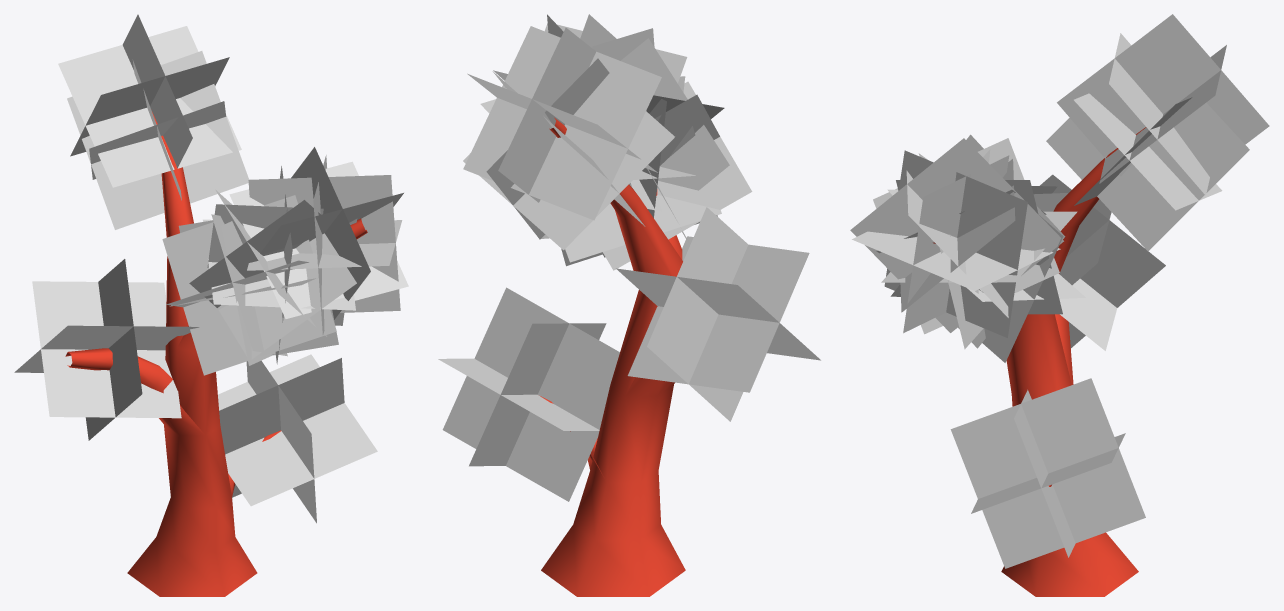
File: tree.fbx
3 views of the same model, side by side, from view 1: azimuth 30°, elevation 25°; view 2: azimuth 150°, elevation 25°; view 3: azimuth 270°, elevation 25° (orthographic). The views are drawn at different scales.
Parts seen in each view (by area): view 1: Tree, Tree|Leaf|Dupli|, Tree|Leaf|Dupli|9, Tree|Leaf|Dupli|8, Tree|Leaf|Dupli|7, Tree|Leaf|Dupli|2, Tree|Leaf|Dupli|1, Tree|Leaf|Dupli|4, Tree|Leaf|Dupli|3, Tree|Leaf|Dupli|6, Tree|Leaf|Dupli|5; view 2: Tree, Tree|Leaf|Dupli|9, Tree|Leaf|Dupli|, Tree|Leaf|Dupli|8, Tree|Leaf|Dupli|7, Tree|Leaf|Dupli|2, Tree|Leaf|Dupli|3, Tree|Leaf|Dupli|5, Tree|Leaf|Dupli|1, Tree|Leaf|Dupli|6, Tree|Leaf|Dupli|4; view 3: Tree|Leaf|Dupli|9, Tree|Leaf|Dupli|8, Tree|Leaf|Dupli|4, Tree|Leaf|Dupli|7, Tree, Tree|Leaf|Dupli|1, Tree|Leaf|Dupli|, Tree|Leaf|Dupli|6, Tree|Leaf|Dupli|5, Tree|Leaf|Dupli|3, Tree|Leaf|Dupli|2.
Part boxes in pixels (bbox=[...]): Tree: bbox=[65, 112, 367, 596]; Tree|Leaf|Dupli|: bbox=[14, 259, 199, 440]; Tree|Leaf|Dupli|9: bbox=[218, 354, 377, 523]; Tree|Leaf|Dupli|8: bbox=[58, 14, 241, 187]; Tree|Leaf|Dupli|7: bbox=[67, 51, 249, 229]; Tree|Leaf|Dupli|2: bbox=[162, 195, 336, 375]; Tree|Leaf|Dupli|1: bbox=[229, 147, 408, 319]; Tree|Leaf|Dupli|4: bbox=[247, 155, 402, 334]; Tree|Leaf|Dupli|3: bbox=[189, 189, 356, 359]; Tree|Leaf|Dupli|6: bbox=[203, 166, 357, 364]; Tree|Leaf|Dupli|5: bbox=[169, 204, 338, 365]; Tree: bbox=[540, 117, 685, 596]; Tree|Leaf|Dupli|9: bbox=[438, 287, 619, 501]; Tree|Leaf|Dupli|: bbox=[616, 207, 820, 421]; Tree|Leaf|Dupli|8: bbox=[463, 26, 661, 220]; Tree|Leaf|Dupli|7: bbox=[463, 58, 674, 250]; Tree|Leaf|Dupli|2: bbox=[603, 81, 752, 270]; Tree|Leaf|Dupli|3: bbox=[621, 38, 729, 211]; Tree|Leaf|Dupli|5: bbox=[561, 126, 721, 266]; Tree|Leaf|Dupli|1: bbox=[493, 14, 687, 83]; Tree|Leaf|Dupli|6: bbox=[541, 76, 695, 238]; Tree|Leaf|Dupli|4: bbox=[480, 14, 654, 113]; Tree|Leaf|Dupli|9: bbox=[950, 378, 1145, 568]; Tree|Leaf|Dupli|8: bbox=[1057, 14, 1269, 195]; Tree|Leaf|Dupli|4: bbox=[852, 150, 1060, 337]; Tree|Leaf|Dupli|7: bbox=[1046, 93, 1249, 251]; Tree: bbox=[933, 127, 1146, 596]; Tree|Leaf|Dupli|1: bbox=[850, 138, 1063, 332]; Tree|Leaf|Dupli|: bbox=[1040, 174, 1165, 350]; Tree|Leaf|Dupli|6: bbox=[881, 149, 1077, 349]; Tree|Leaf|Dupli|5: bbox=[967, 193, 1085, 362]; Tree|Leaf|Dupli|3: bbox=[873, 138, 1059, 334]; Tree|Leaf|Dupli|2: bbox=[887, 134, 1065, 348].
Size of the model in its own units: 236 by 359 by 246.
